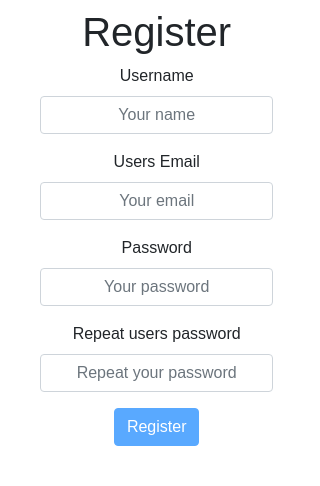
Scenario: RegistrationPage › Interactions › hides validation error when user changes the content of password
The width and height of the screenshot is (320, 486).
Type "my-name" into the field with placeholder "Your name" at [157, 115], box [40,96,273,134]
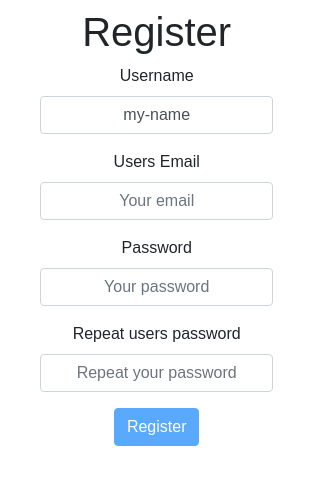
Type "my-email" into the field with placeholder "Your email" at [157, 201], box [40,182,273,220]
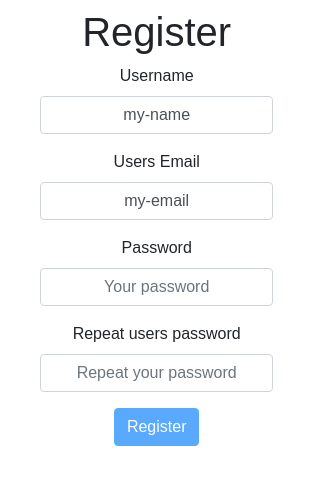
Type "P4ssword" into the password field with placeholder "Your password" at [157, 287], box [40,268,273,306]
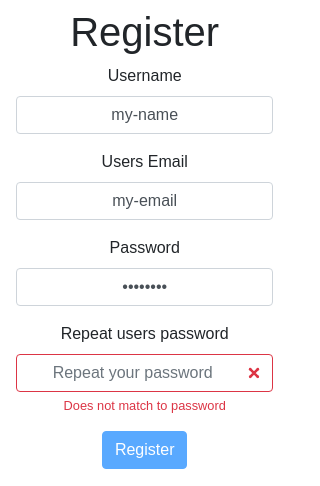
Type "P4ssword" into the password field with placeholder "Repeat your password" at [145, 373], box [16,354,273,392]
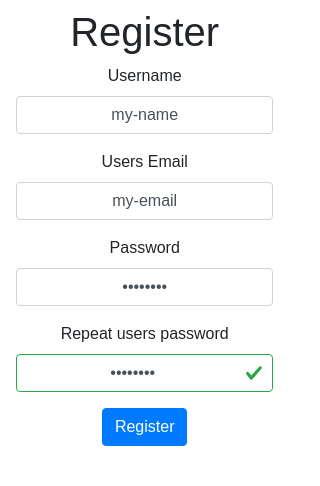
Click the button "Register" at [145, 427], box [102,408,188,446]
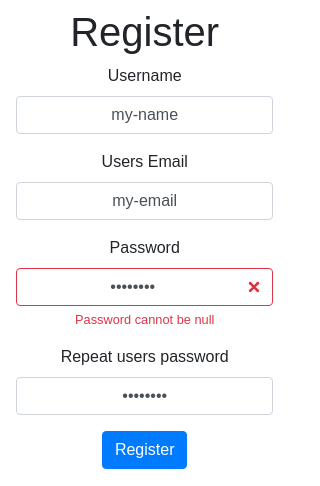
Type "updated-password" into the 1st password field with placeholder "Your password" at [145, 287], box [16,268,273,306]
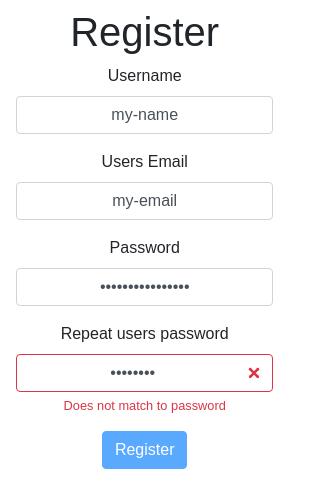
Check: the text "cannot be null" is gone
